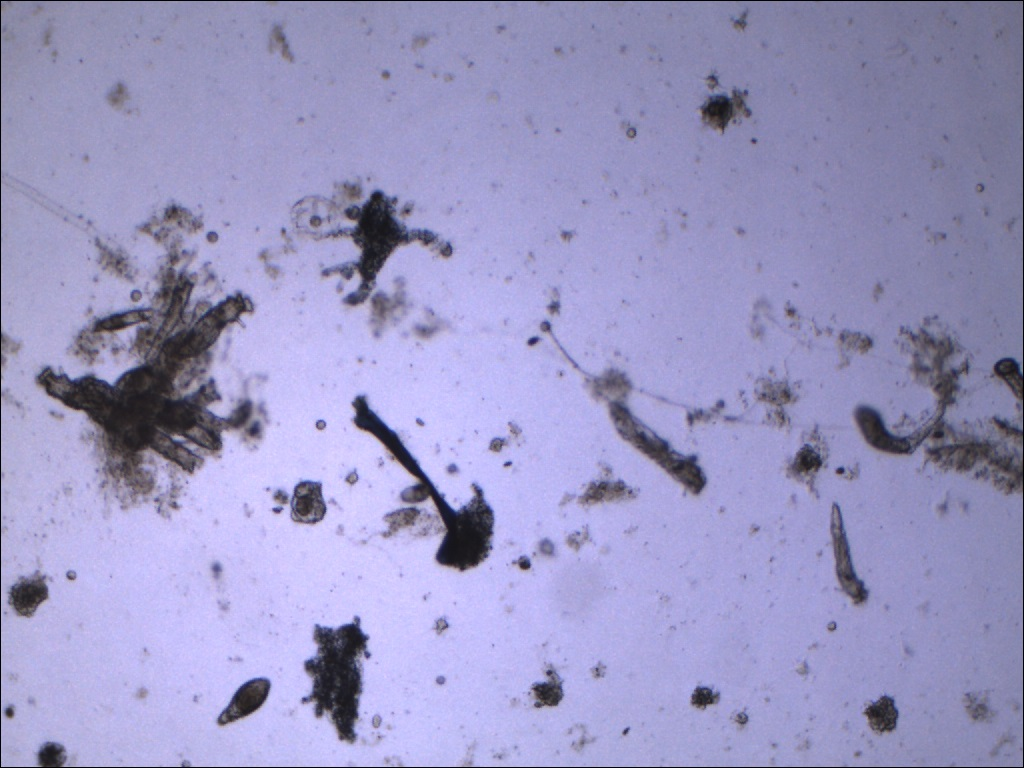amoeba: (348, 388, 501, 578), (308, 184, 462, 312), (293, 610, 375, 752)
